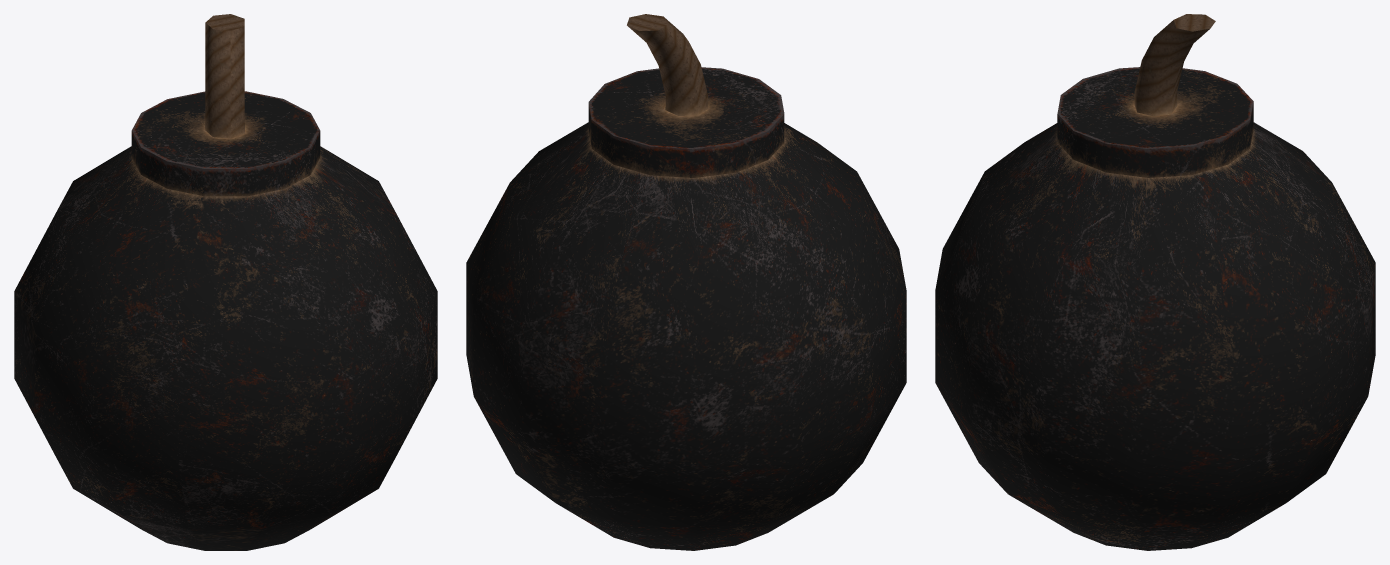
Rendered from bomb.glb.
3 renders of one model, left to right at view 1: azimuth 30°, elevation 25°; view 2: azimuth 150°, elevation 25°; view 3: azimuth 270°, elevation 25°, orthographic. The views are drawn at different scales.
Parts seen in each view (by area): view 1: Bomba; view 2: Bomba; view 3: Bomba.
Boxes of the visible parts, x1,y1,x2,y2 form: Bomba: [14, 14, 437, 550]; Bomba: [466, 14, 906, 550]; Bomba: [935, 14, 1375, 550].
Bounding box in the file's own units: 0.3439 × 0.4415 × 0.341.
Materials: 1 (1 with a texture image).
